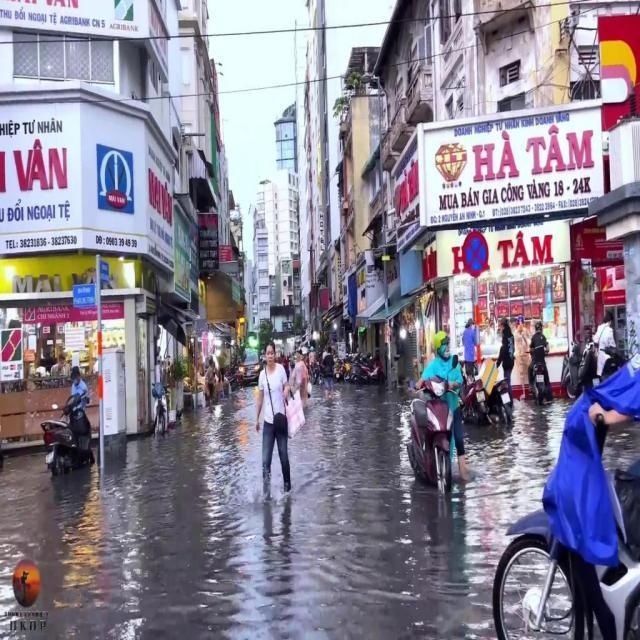130-cam-dung-va-do-xe: (462, 232, 488, 276)
